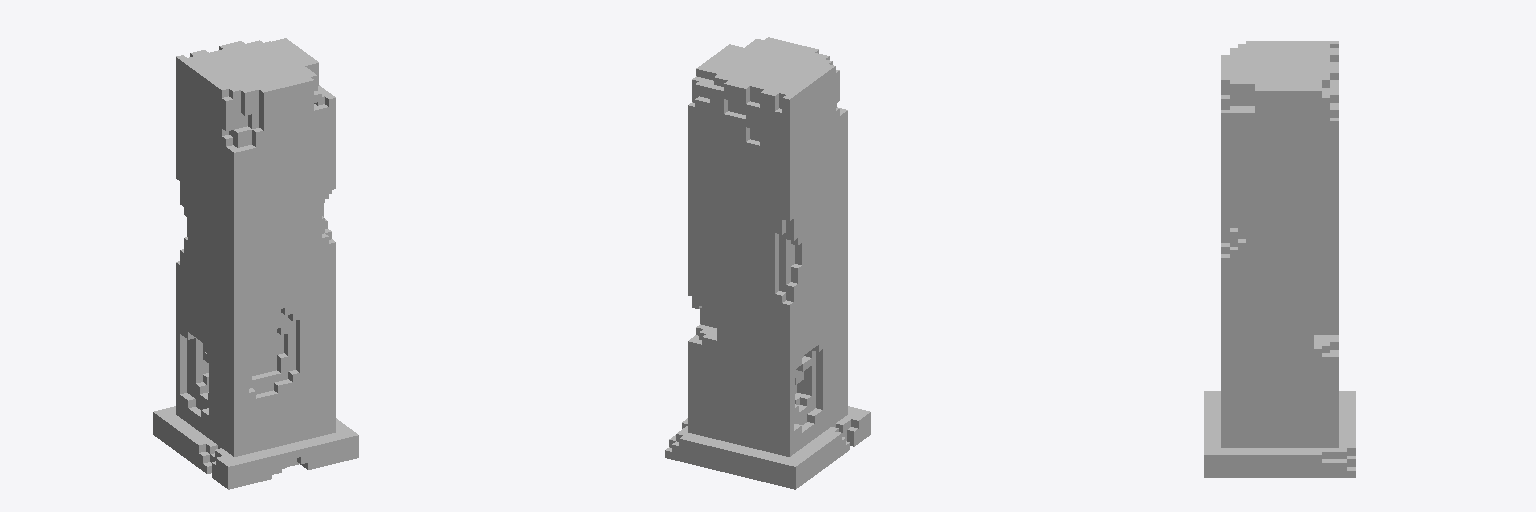
The model's file is Pillar.obj.
The picture shows the model from 3 angles: view 1: azimuth 30°, elevation 25°; view 2: azimuth 150°, elevation 25°; view 3: azimuth 270°, elevation 25°; orthographic projection.
Visible parts, largest first — view 1: Pillar; view 2: Pillar; view 3: Pillar.
Part boxes in pixels (bbox=[...]): Pillar: bbox=[153, 38, 358, 489]; Pillar: bbox=[665, 37, 870, 489]; Pillar: bbox=[1204, 41, 1355, 477].
Bounding box in the file's own units: 18 × 50 × 18.